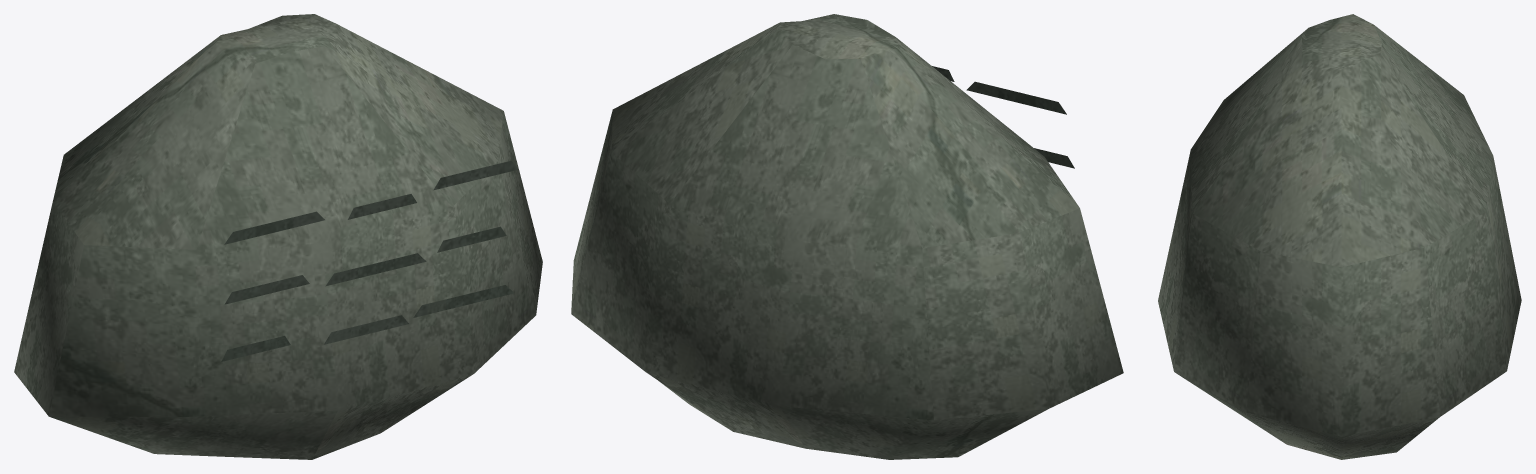
File: wayfinding-stone.mobile.glb
The picture shows the model from 3 angles, left to right: view 1: azimuth 30°, elevation 25°; view 2: azimuth 150°, elevation 25°; view 3: azimuth 270°, elevation 25°; orthographic projection. The views are drawn at different scales.
Visible parts, largest first — view 1: SA_G14_MESH_60, SA_G14_MESH_61; view 2: SA_G14_MESH_60, SA_G14_MESH_61; view 3: SA_G14_MESH_60.
Boxes of the visible parts, <box> form: SA_G14_MESH_60: <box>14,14,542,459</box>; SA_G14_MESH_61: <box>221,160,518,361</box>; SA_G14_MESH_60: <box>571,14,1123,459</box>; SA_G14_MESH_61: <box>932,66,1074,168</box>; SA_G14_MESH_60: <box>1158,14,1521,459</box>.
Size of the model in its own units: 1.12 by 0.782 by 0.73.
1 material, 1 textured.
